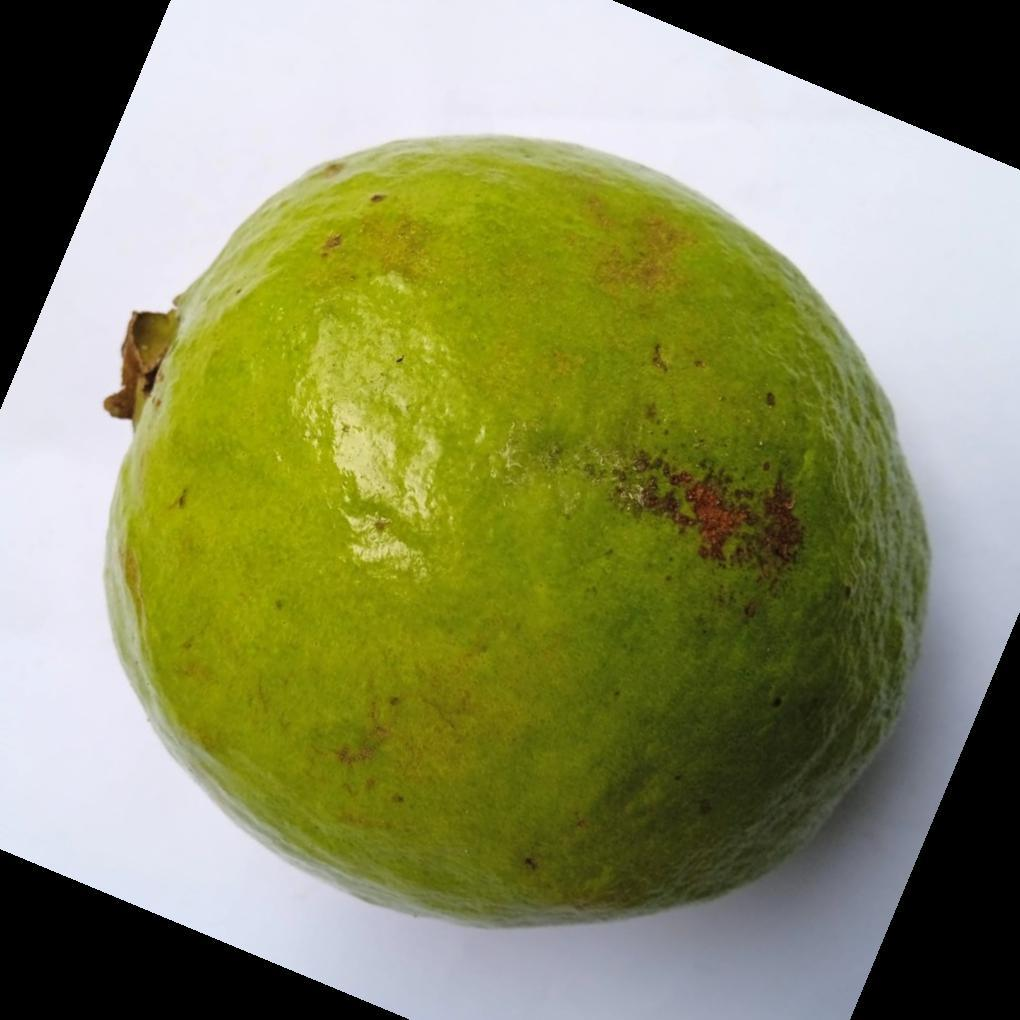FreshGuava: (99, 134, 933, 933)
